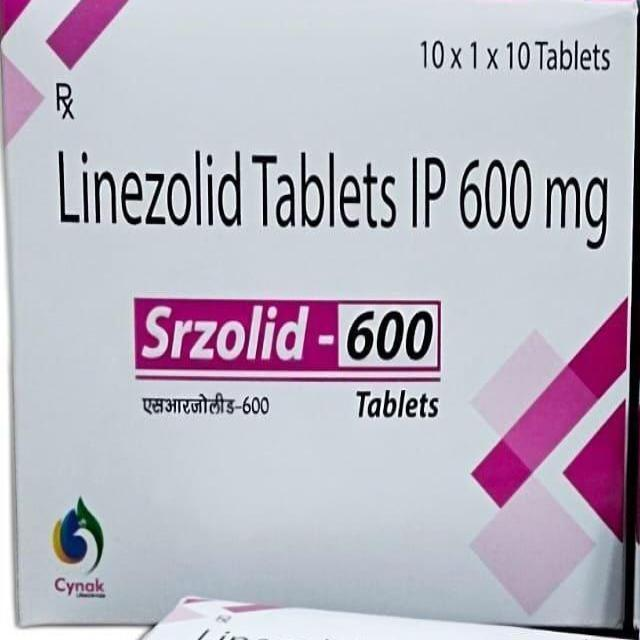drug-name: (132, 302, 438, 370)
